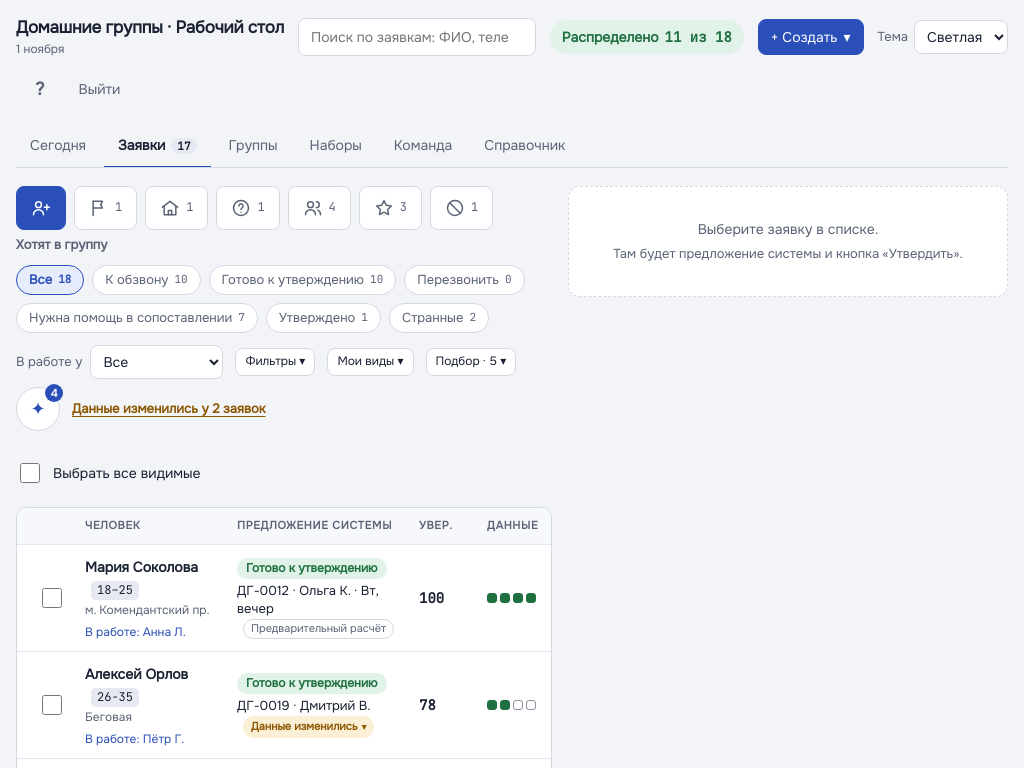
Scenario: «Заявки»: подбор для новых заявок › блок показывает, сколько заявок ждут подбора, и когда подбор запускали в последний раз
Click the button "Подбор · 5 ▾" at (471, 362), box [426,348,516,376]
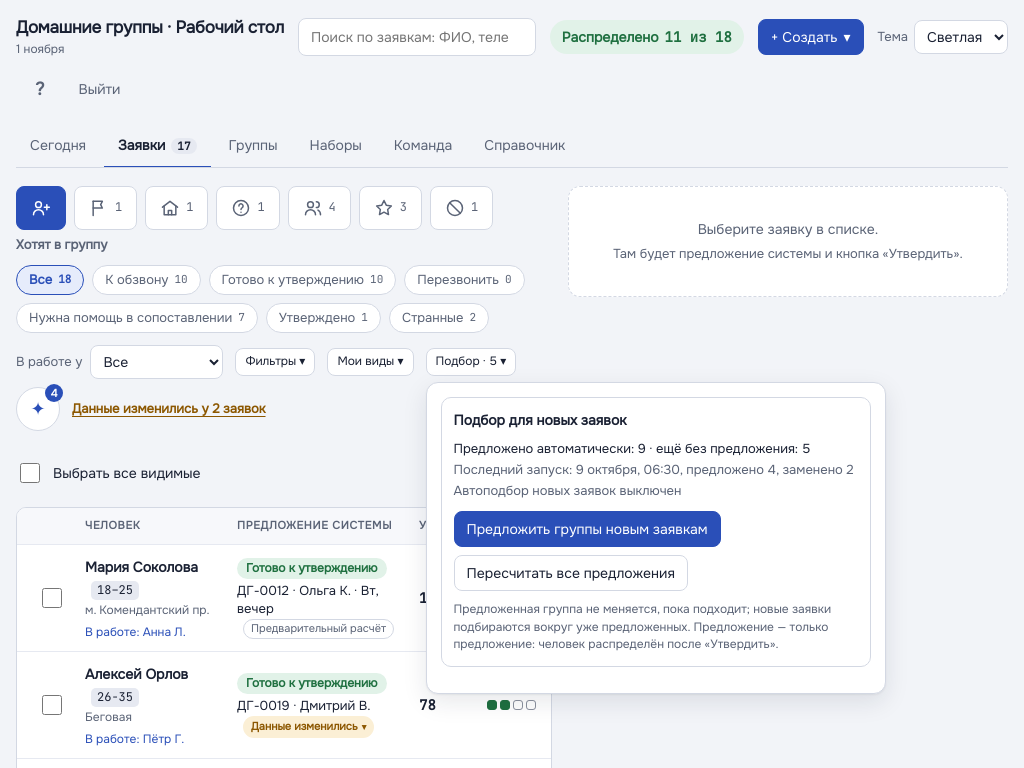
Now the text "Предложено автоматически: 9 · ещё без предложения: 5" is shown, box [454,440,810,459]
Now the text "Последний запуск: 9 октября, 06:30, предложено 4, заменено 2" is shown, box [454,461,854,480]
